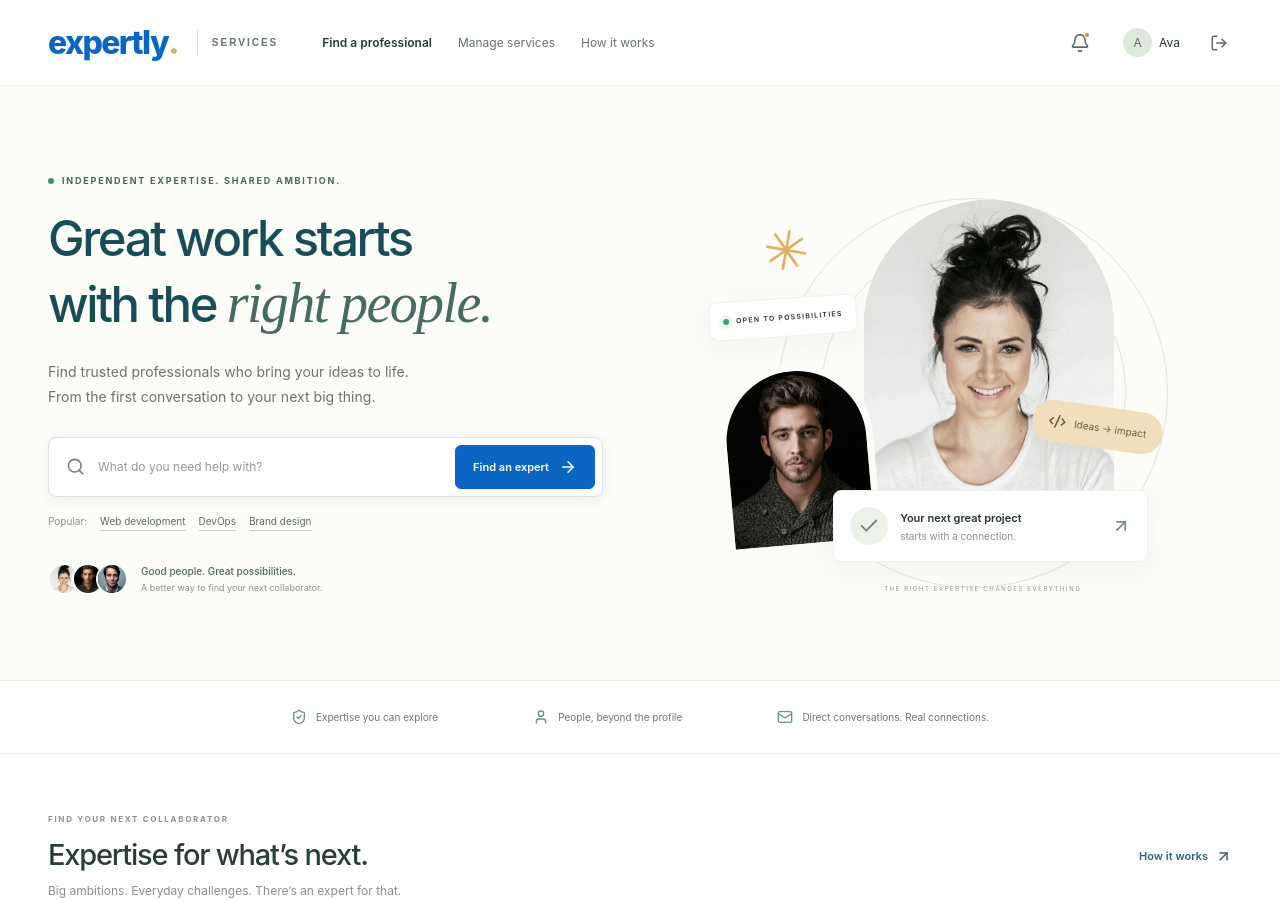
Test: restores a session, marks an owned notification read and opens the inquiry workspace
Click the button named "Notifications": click(1080, 42) 1063,26 -> 1097,60
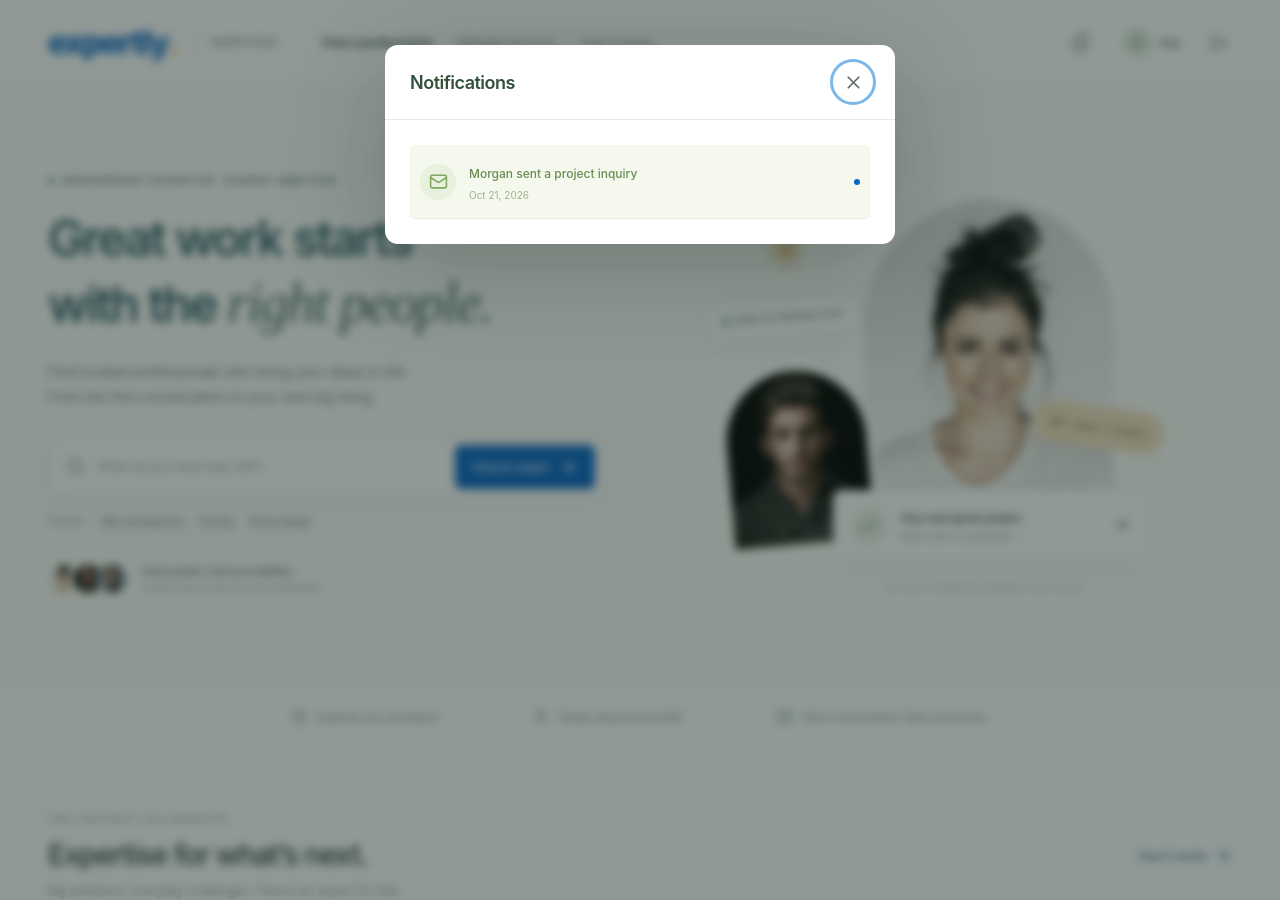
Click the button "Morgan sent a project inquiry Oct 21, 2026": click(640, 182) 410,145 -> 870,219
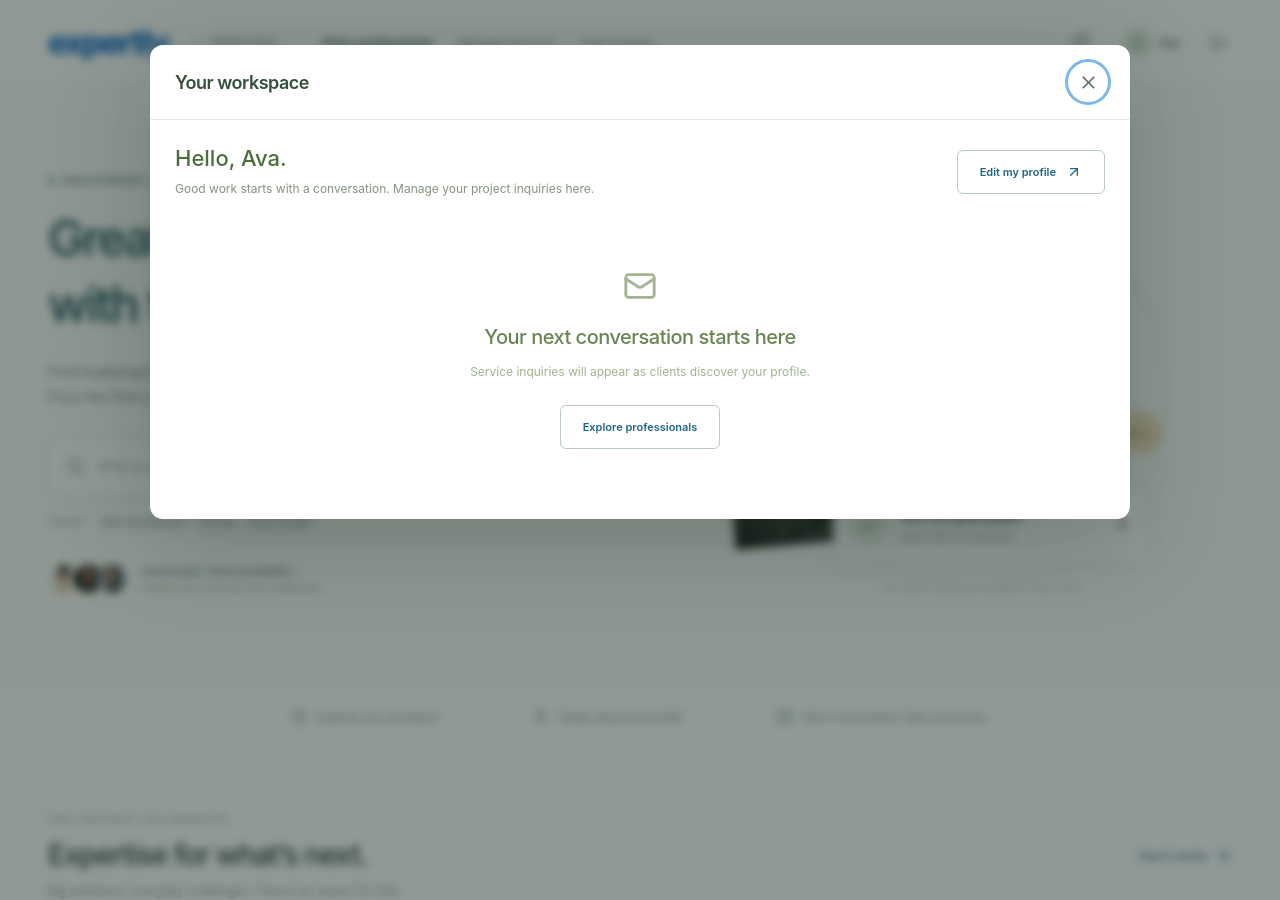
expect the dialog "Your workspace" is shown: met, box 150,45 -> 1130,519
